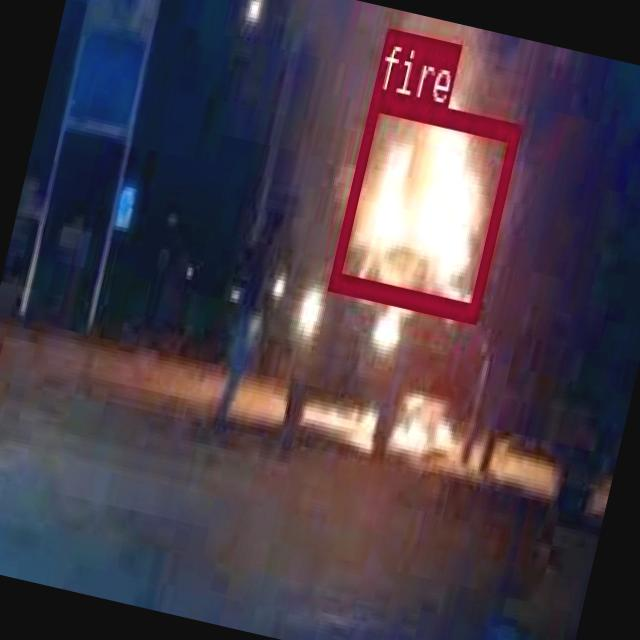fire: (328, 88, 521, 318)
